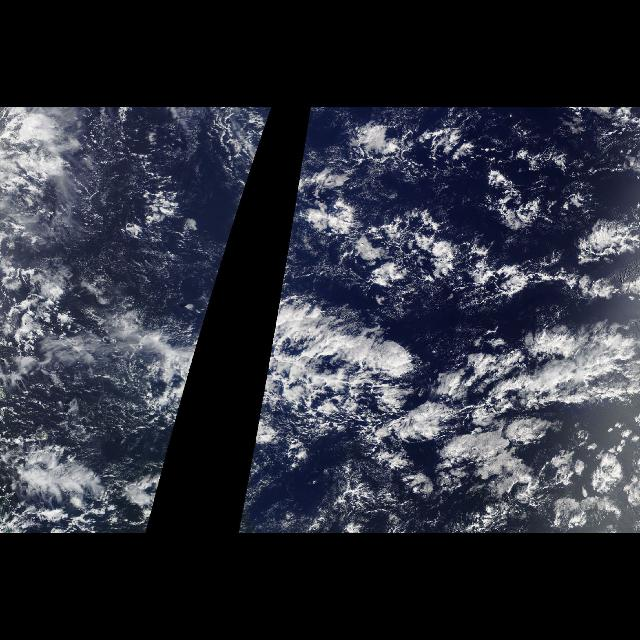Sugar: (138, 219, 235, 323), (276, 219, 308, 323)
